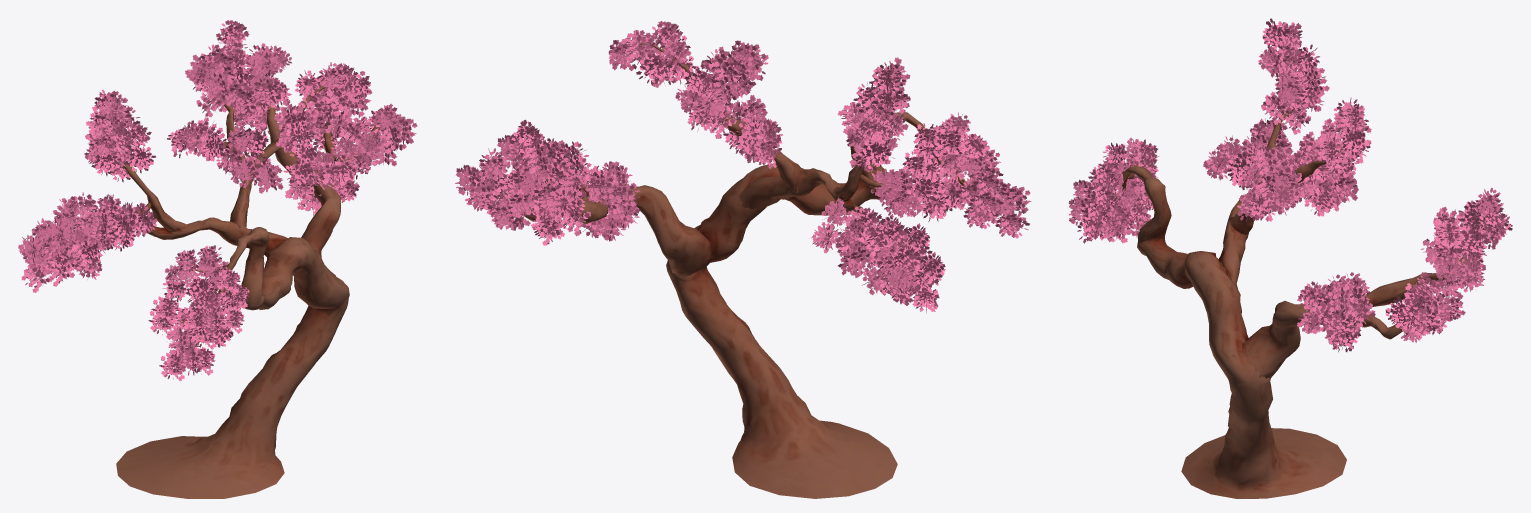
The model's file is cherry_blossom.glb.
3 renders of one model, left to right at view 1: azimuth 30°, elevation 25°; view 2: azimuth 150°, elevation 25°; view 3: azimuth 270°, elevation 25°, orthographic. The views are drawn at different scales.
Visible parts, largest first — view 1: Blossoms, Bark; view 2: Blossoms, Bark; view 3: Blossoms, Bark.
Boxes of the visible parts, <box> form: Blossoms: <box>18,20,417,381</box>; Bark: <box>71,78,393,498</box>; Blossoms: <box>455,21,1031,313</box>; Bark: <box>497,43,1001,498</box>; Blossoms: <box>1068,18,1512,352</box>; Bark: <box>1115,72,1487,498</box>.
Size of the model in its own units: 21.75 by 20.05 by 20.16.
Materials: 2 (2 with a texture image).
